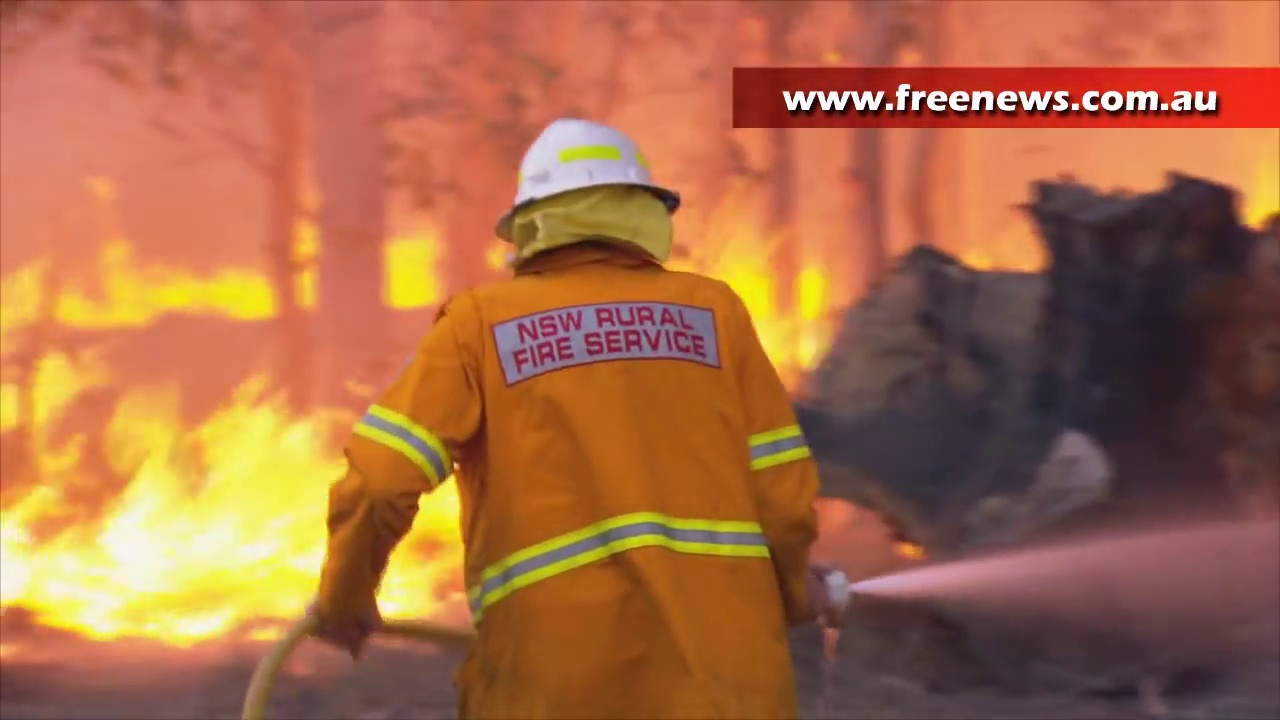fire: (1, 402, 333, 630), (8, 263, 281, 322), (745, 265, 827, 350), (382, 555, 433, 617), (387, 237, 428, 307)
